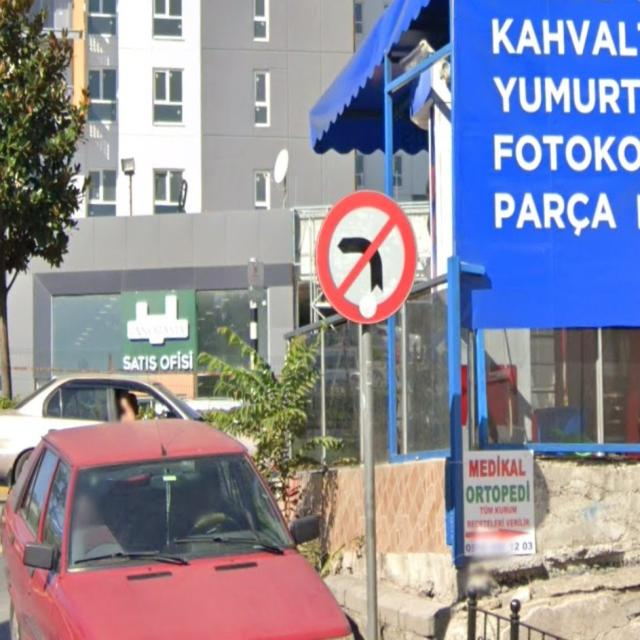soladonulmez: (315, 191, 420, 323)
